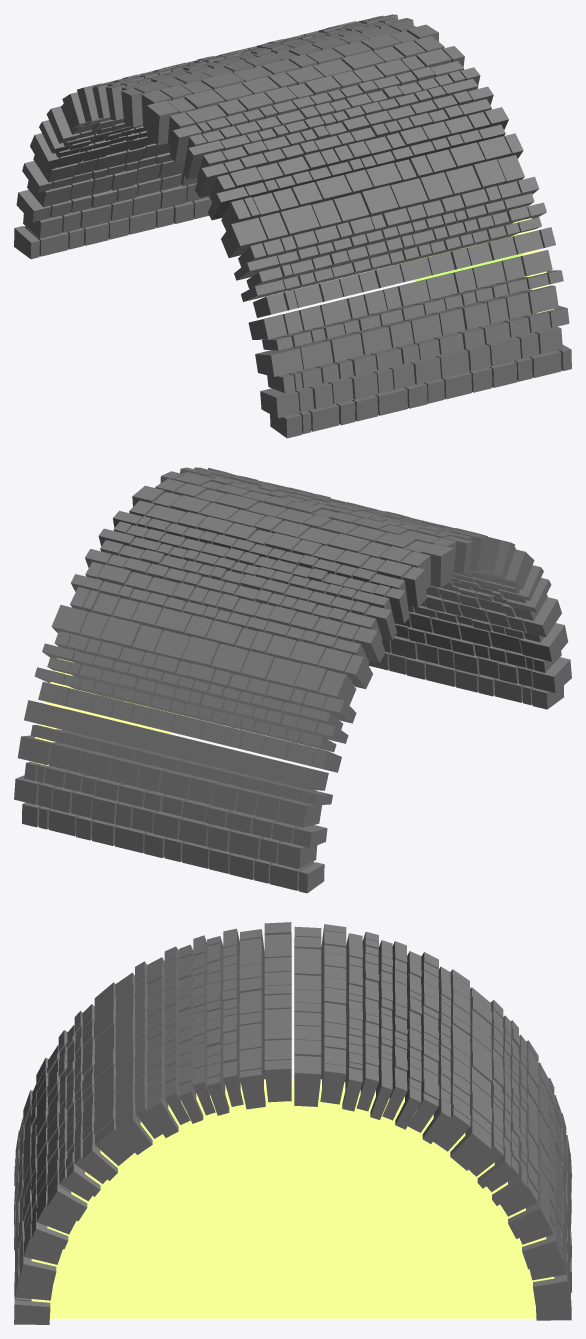
File: Level change.glb
3 views of the same model, one above another, from view 1: azimuth 30°, elevation 25°; view 2: azimuth 150°, elevation 25°; view 3: azimuth 270°, elevation 25° (orthographic). The views are drawn at different scales.
Parts seen in each view (by area): view 1: Cube.118; view 2: Cube.118; view 3: Cube.118.
Boxes of the visible parts, x1=… form: Cube.118: x1=14, y1=14, x2=571, y2=438; Cube.118: x1=14, y1=467, x2=571, y2=893; Cube.118: x1=14, y1=922, x2=571, y2=1324.
Bounding box in the file's own units: 20.51 × 16.01 × 32.05.
